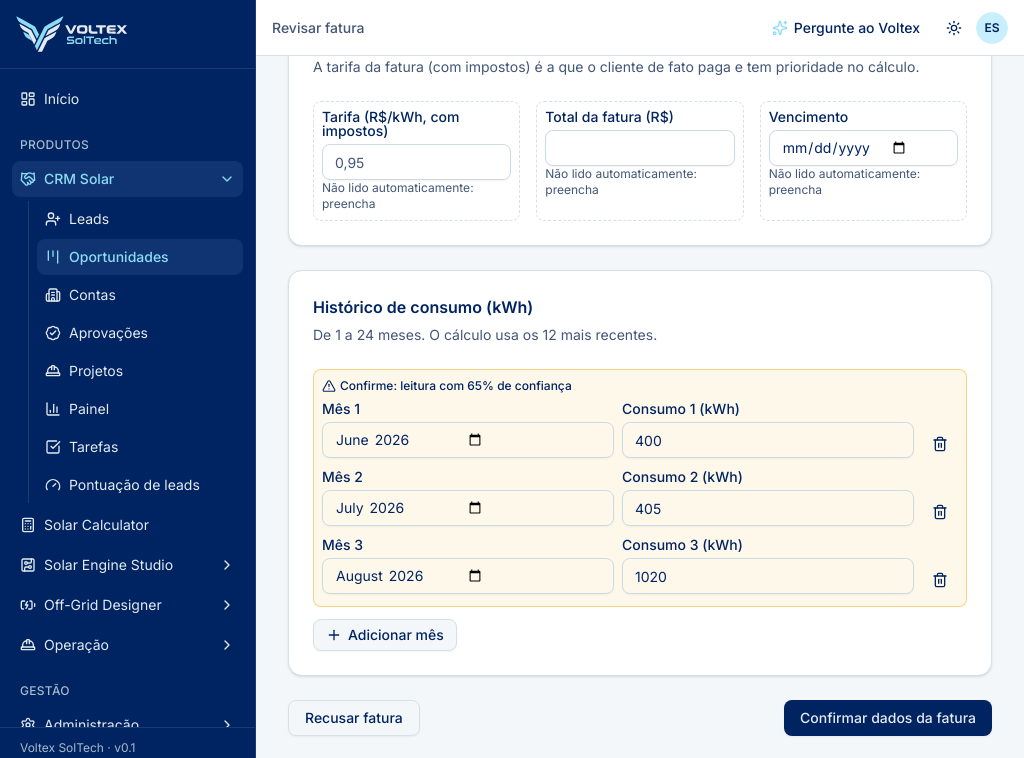
it: CRM · Revisão da fatura › erro do servidor na confirmação aparece como aviso e mantém os dados na tela
The width and height of the screenshot is (1024, 758).
(page scrolled)
Click the button "Confirmar dados da fatura" at (888, 718), box [784,700,992,736]
(page scrolled)
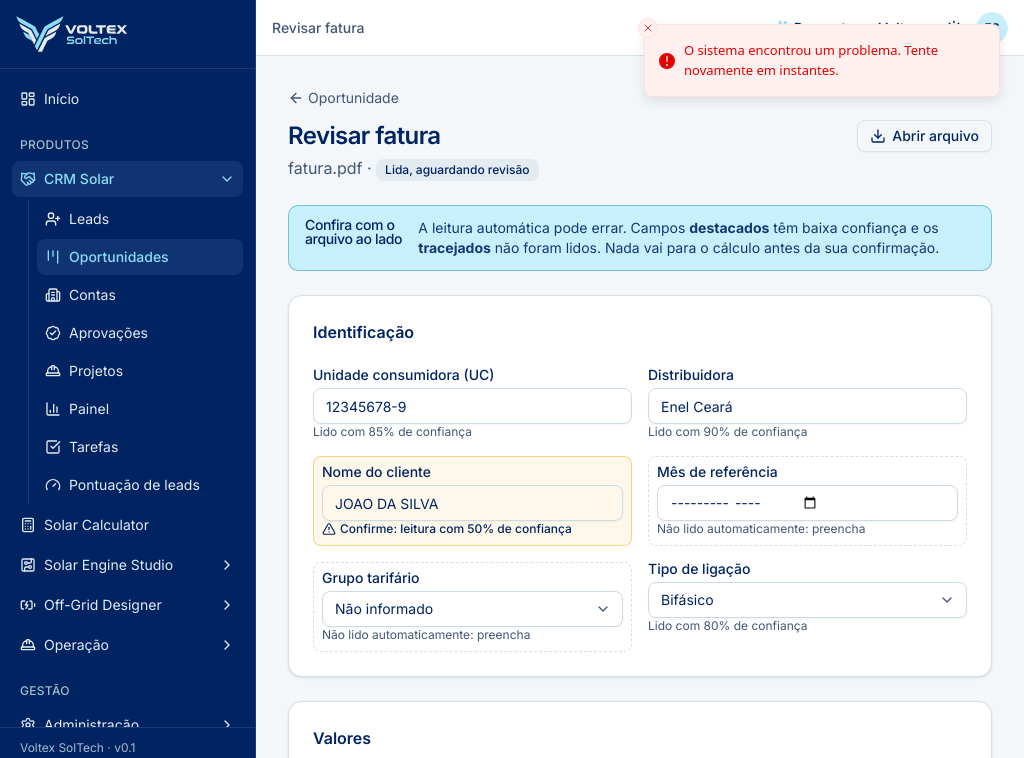
Now the text "O sistema encontrou um problema" is shown, box [684,41,938,78]
Now the field labelled "Unidade consumidora (UC)" holds "12345678-9", box [313,388,632,424]
